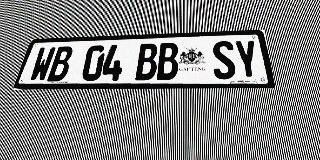0: (80, 45, 106, 81)
4: (100, 44, 125, 81)
B: (47, 46, 74, 81), (135, 43, 158, 80), (157, 43, 178, 80)
S: (212, 41, 237, 79)
W: (28, 47, 56, 82)
Y: (233, 40, 261, 79)
